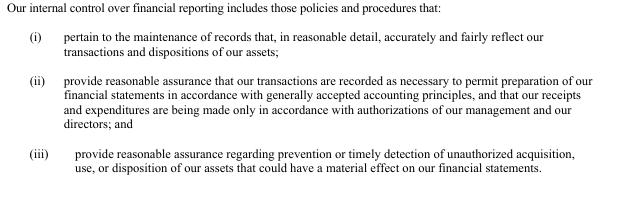table: (28, 28, 591, 174)
table column: (55, 28, 591, 174), (28, 28, 55, 174)
table row: (28, 64, 591, 137), (28, 137, 591, 174), (28, 28, 591, 64)
